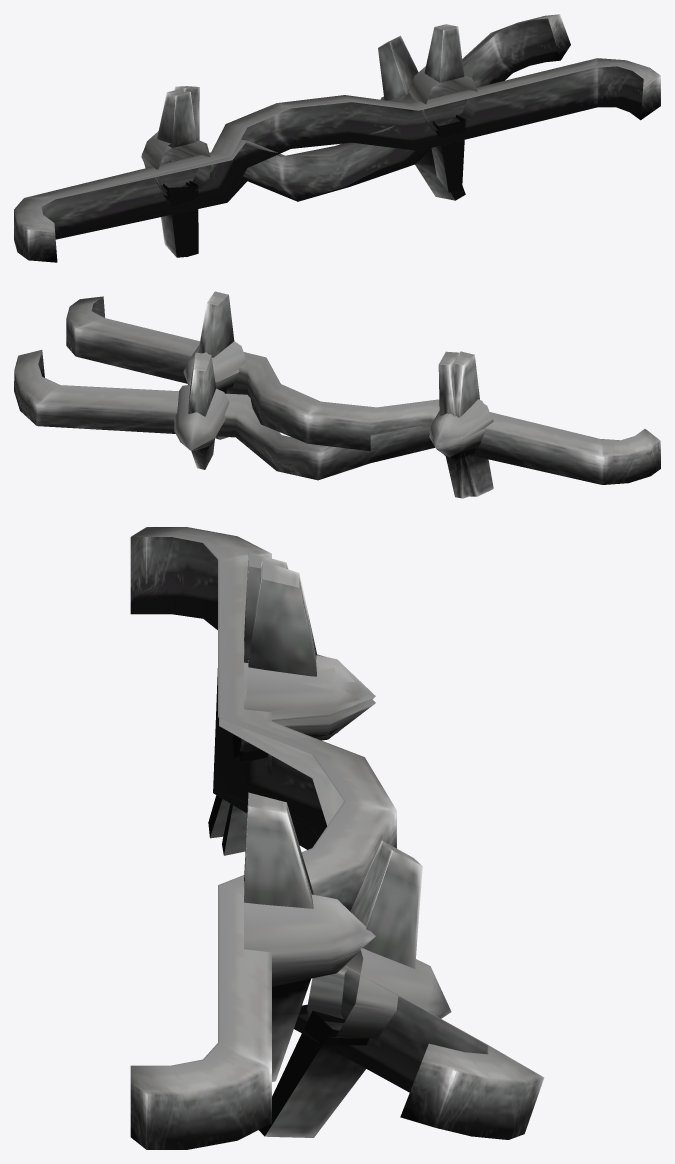
File: fbmp_lr_br1.glb
3 renders of one model, top to bottom at view 1: azimuth 30°, elevation 25°; view 2: azimuth 150°, elevation 25°; view 3: azimuth 270°, elevation 25°, orthographic. The views are drawn at different scales.
Parts seen in each view (by area): view 1: fbmp_lr_br1, fbmp_lr_br1_dam; view 2: fbmp_lr_br1, fbmp_lr_br1_dam; view 3: fbmp_lr_br1, fbmp_lr_br1_dam.
Part boxes in pixels (x1,y1,x2,y2): fbmp_lr_br1: (14, 24, 660, 262); fbmp_lr_br1_dam: (41, 14, 570, 257); fbmp_lr_br1: (66, 291, 660, 498); fbmp_lr_br1_dam: (14, 350, 592, 496); fbmp_lr_br1: (130, 527, 396, 1149); fbmp_lr_br1_dam: (208, 560, 544, 1139).
Size of the model in its own units: 2.29 by 0.6315 by 0.7051.
2 materials, 2 textured.
